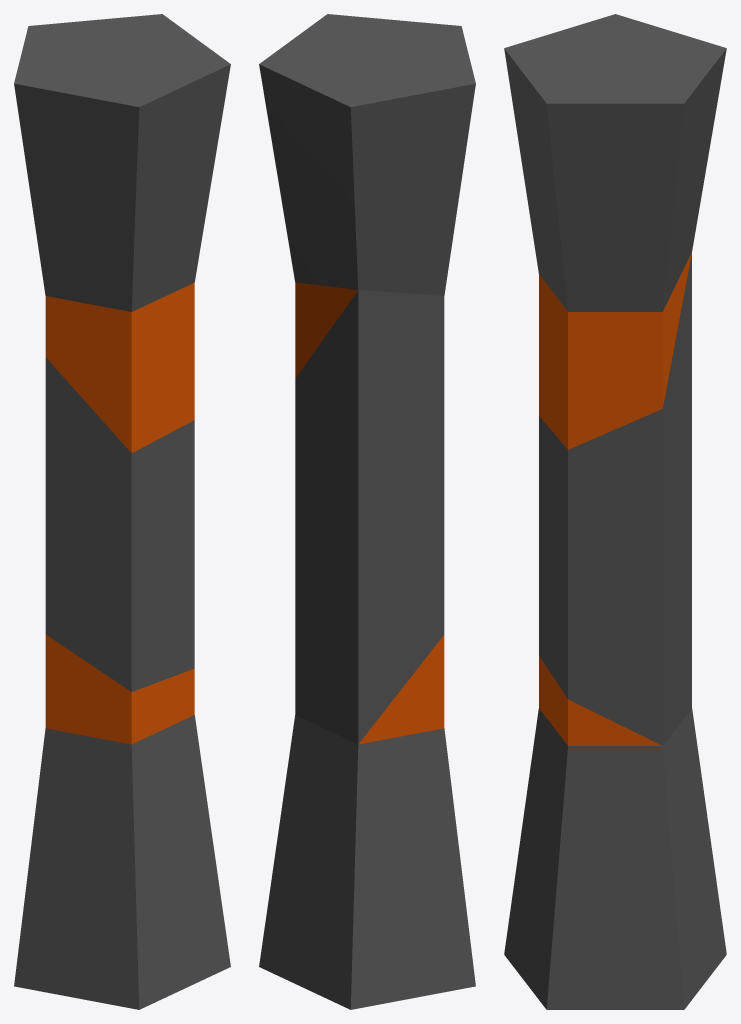
Rendered from env_ruin_pillar_02_lod2.fbx.
3 renders of one model, left to right at view 1: azimuth 30°, elevation 25°; view 2: azimuth 150°, elevation 25°; view 3: azimuth 270°, elevation 25°, orthographic.
Visible parts, largest first — view 1: env_ruin_pillar_02_lod0.006; view 2: env_ruin_pillar_02_lod0.006; view 3: env_ruin_pillar_02_lod0.006.
Boxes of the visible parts, box(x1,y1,x2,y2) form: env_ruin_pillar_02_lod0.006: box(14, 14, 230, 1009); env_ruin_pillar_02_lod0.006: box(259, 14, 475, 1009); env_ruin_pillar_02_lod0.006: box(504, 14, 726, 1009).
Bounding box in the file's own units: 6.04 × 28.5 × 6.35.
